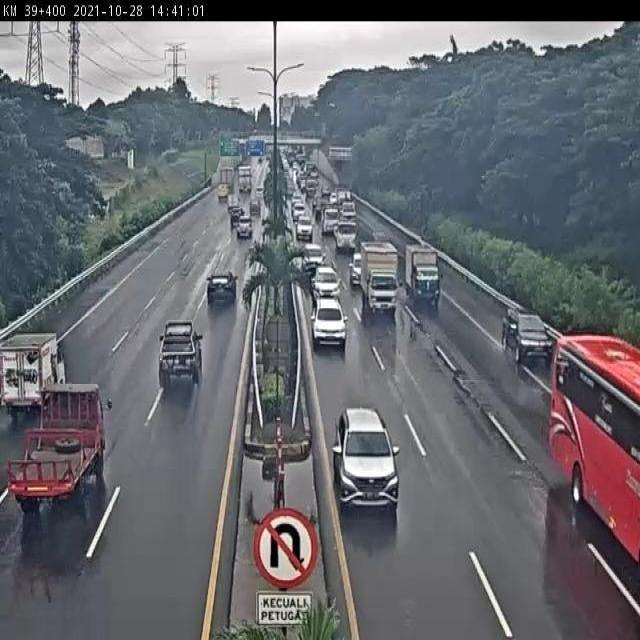car: (334, 407, 401, 513), (156, 320, 204, 391), (502, 305, 556, 364), (309, 299, 347, 348), (203, 267, 239, 305), (311, 266, 343, 302)
mid truck: (9, 382, 106, 506)
small truck: (0, 331, 67, 418)
truck-m-: (360, 240, 398, 315)
truck-s-: (404, 243, 441, 305)
